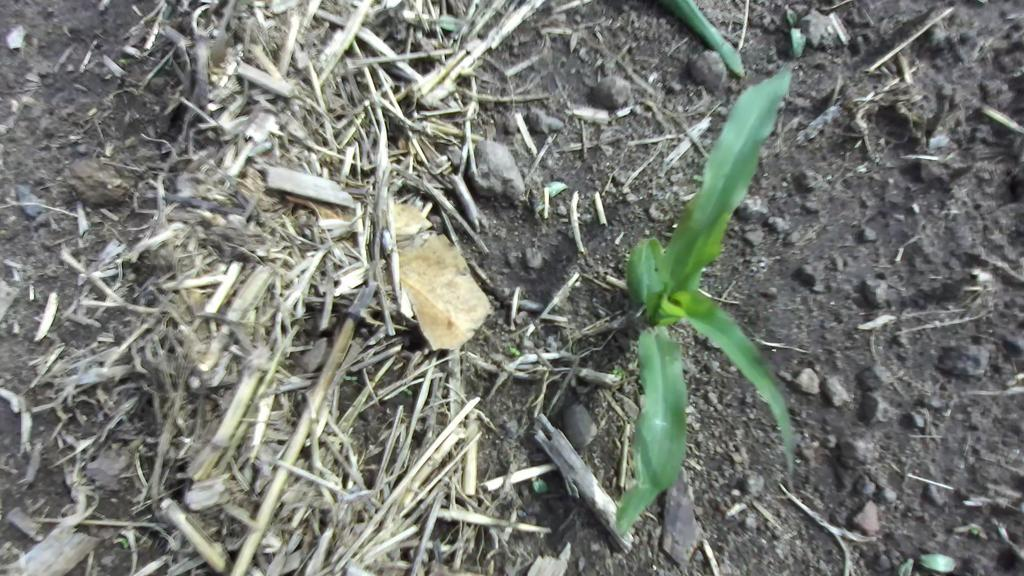BroWeed: (781, 1, 810, 58), (896, 551, 958, 576), (921, 129, 951, 157), (543, 174, 570, 200), (435, 12, 465, 34), (529, 473, 549, 497), (111, 533, 131, 549), (533, 195, 545, 219), (508, 345, 523, 357), (967, 525, 980, 537), (612, 363, 625, 374), (117, 57, 135, 64), (612, 369, 623, 376), (344, 376, 358, 381), (403, 388, 412, 395)
Maize: (616, 69, 795, 537)
